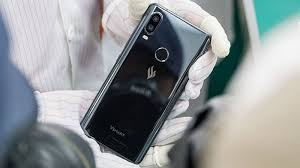vsmart: (77, 1, 212, 168)
